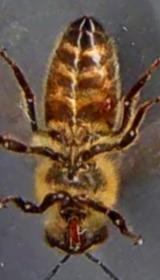varroa_mite: (98, 87, 117, 116)
